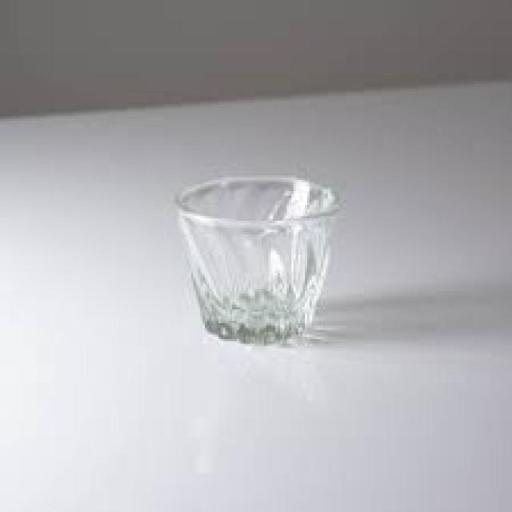glass: (161, 168, 350, 362)
